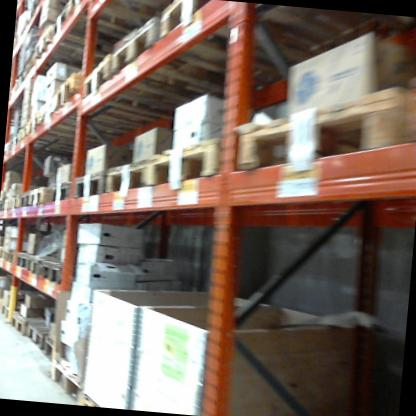pallet: (228, 67, 407, 215), (68, 51, 260, 155), (154, 0, 335, 88), (49, 0, 150, 53), (148, 132, 235, 193), (28, 35, 117, 89), (102, 0, 165, 76), (103, 150, 153, 213), (27, 111, 100, 151), (43, 350, 94, 401), (6, 302, 66, 338), (39, 326, 87, 365), (25, 316, 64, 362), (70, 165, 109, 209), (12, 121, 57, 156), (46, 73, 83, 111), (45, 175, 80, 214), (41, 257, 72, 292), (71, 387, 119, 408), (8, 134, 46, 160), (27, 182, 52, 214), (25, 251, 47, 281), (14, 246, 35, 270), (16, 188, 33, 215), (0, 295, 12, 322), (5, 194, 20, 215), (7, 245, 19, 268), (0, 244, 12, 265), (0, 293, 3, 316)
